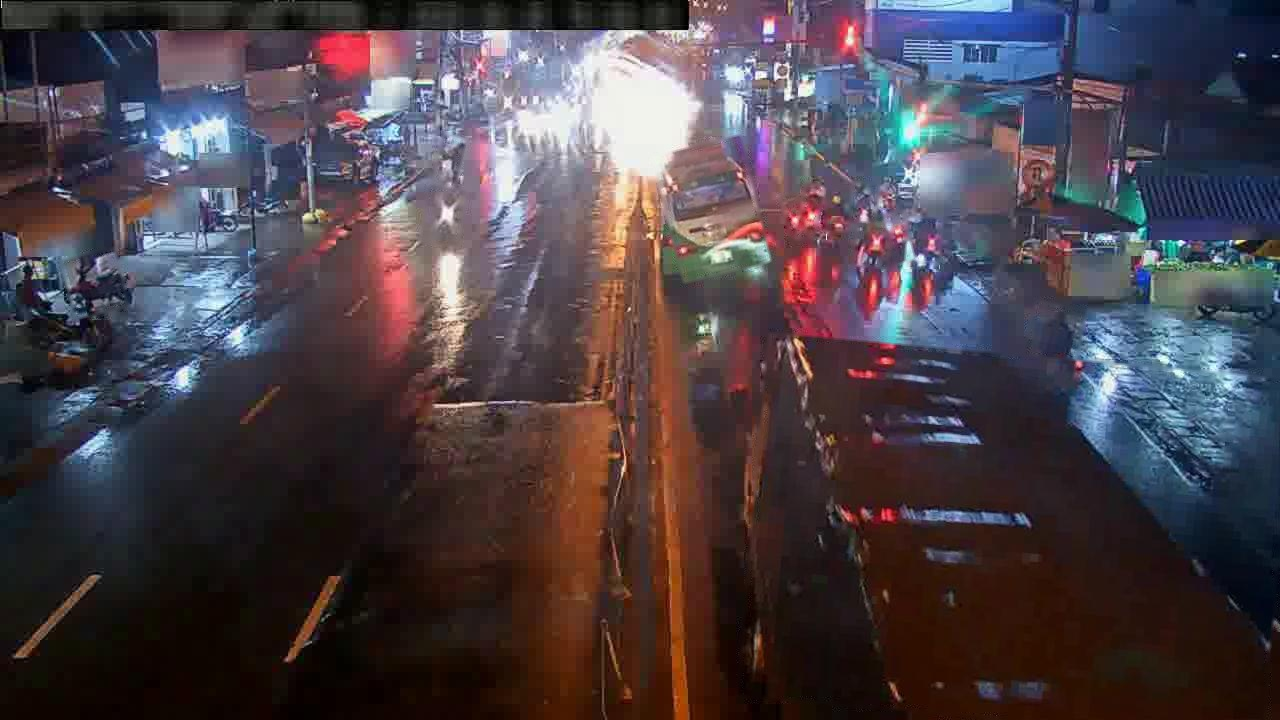Bus: (659, 141, 771, 287)
Motorcyclist: (1028, 305, 1082, 387), (66, 258, 132, 314), (424, 188, 464, 246), (908, 217, 942, 271), (797, 182, 825, 237), (857, 222, 890, 267), (436, 136, 465, 185), (886, 214, 910, 263), (824, 192, 847, 241), (783, 197, 806, 242), (850, 186, 878, 222)
Truck: (745, 338, 1271, 719)
